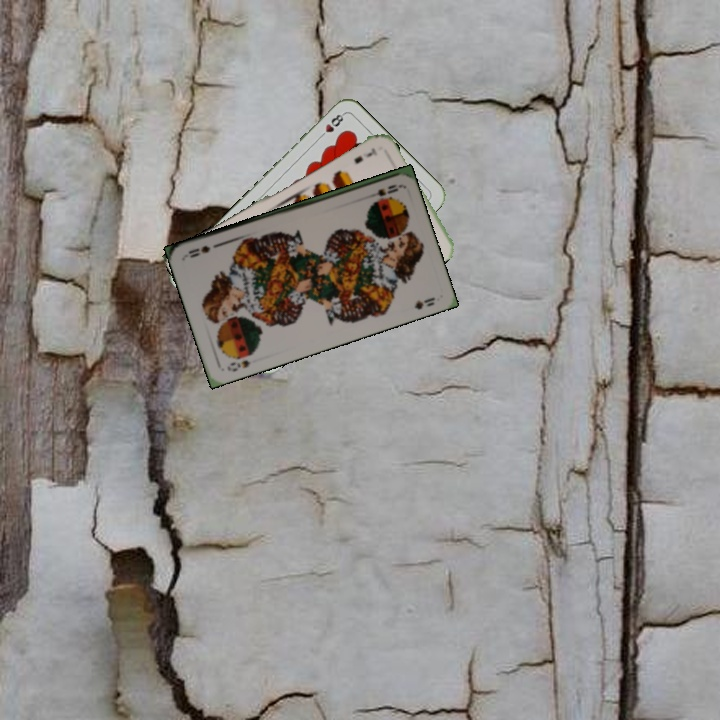E7: (350, 144, 379, 166)
H8: (315, 110, 347, 142)
SO: (362, 180, 401, 202), (223, 356, 254, 374)
